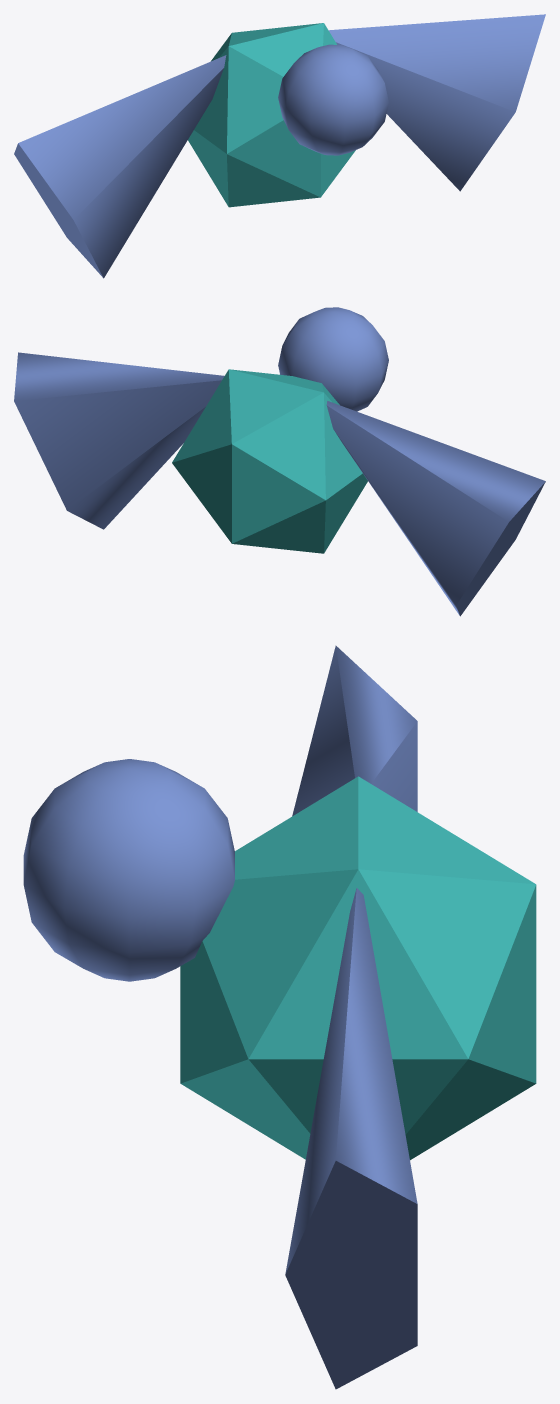
The model's file is lake_ray.glb.
3 views of the same model, one above another, from view 1: azimuth 30°, elevation 25°; view 2: azimuth 150°, elevation 25°; view 3: azimuth 270°, elevation 25° (orthographic). The views are drawn at different scales.
Parts seen in each view (by area): view 1: wing_-1, wing_1, body_core, head_core; view 2: body_core, wing_1, wing_-1, head_core; view 3: body_core, wing_1, head_core, wing_-1.
Boxes of the visible parts, x1=… form: wing_-1: x1=14, y1=55, x2=226, y2=278; wing_1: x1=328, y1=14, x2=545, y2=191; body_core: x1=188, y1=23, x2=355, y2=207; head_core: x1=278, y1=44, x2=388, y2=155; body_core: x1=172, y1=369, x2=367, y2=553; wing_1: x1=14, y1=352, x2=224, y2=529; wing_-1: x1=326, y1=401, x2=545, y2=616; head_core: x1=278, y1=307, x2=388, y2=411; body_core: x1=180, y1=776, x2=536, y2=1160; wing_1: x1=285, y1=888, x2=417, y2=1389; head_core: x1=23, y1=759, x2=234, y2=981; wing_-1: x1=292, y1=645, x2=417, y2=816.
Size of what is drawn, in the model's own units: 4.37 by 1.77 by 1.84.
